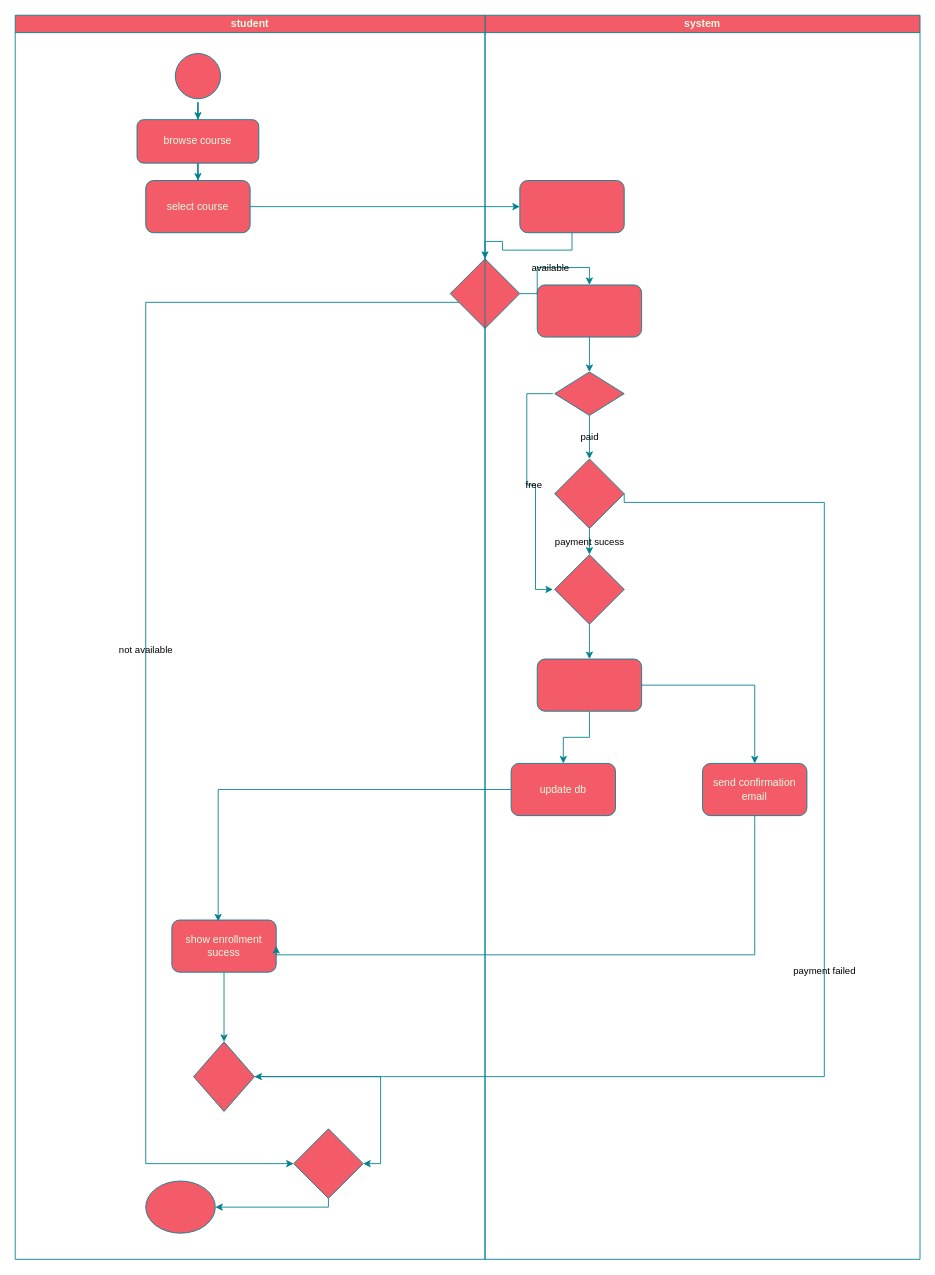
Some shapes in this 935 by 1275 pixel diagram are drawn without their labels. Here are the shapes that lost their labels. From the top down, the centre of each, then its label:
At point 197,75: "start".
At point 571,206: "check course availability".
At point 589,310: "create enrollment".
At point 589,684: "creat enrollmrt rec".
